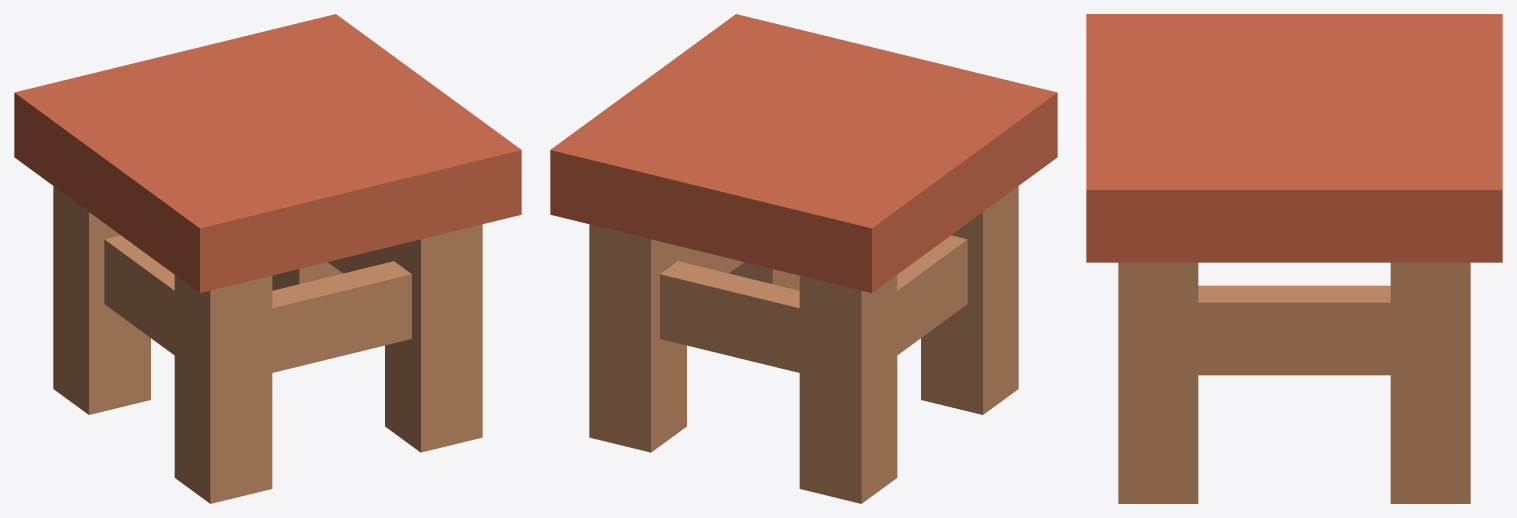
Rendered from Chair.fbx.
3 views of the same model, side by side, from view 1: azimuth 30°, elevation 25°; view 2: azimuth 150°, elevation 25°; view 3: azimuth 270°, elevation 25° (orthographic). The views are drawn at different scales.
Parts seen in each view (by area): view 1: mergedBlocks; view 2: mergedBlocks; view 3: mergedBlocks.
Boxes of the visible parts, x1=… form: mergedBlocks: x1=14, y1=14, x2=521, y2=503; mergedBlocks: x1=550, y1=14, x2=1057, y2=503; mergedBlocks: x1=1086, y1=14, x2=1502, y2=503.
Size of the model in its own units: 26 by 22.55 by 26.
